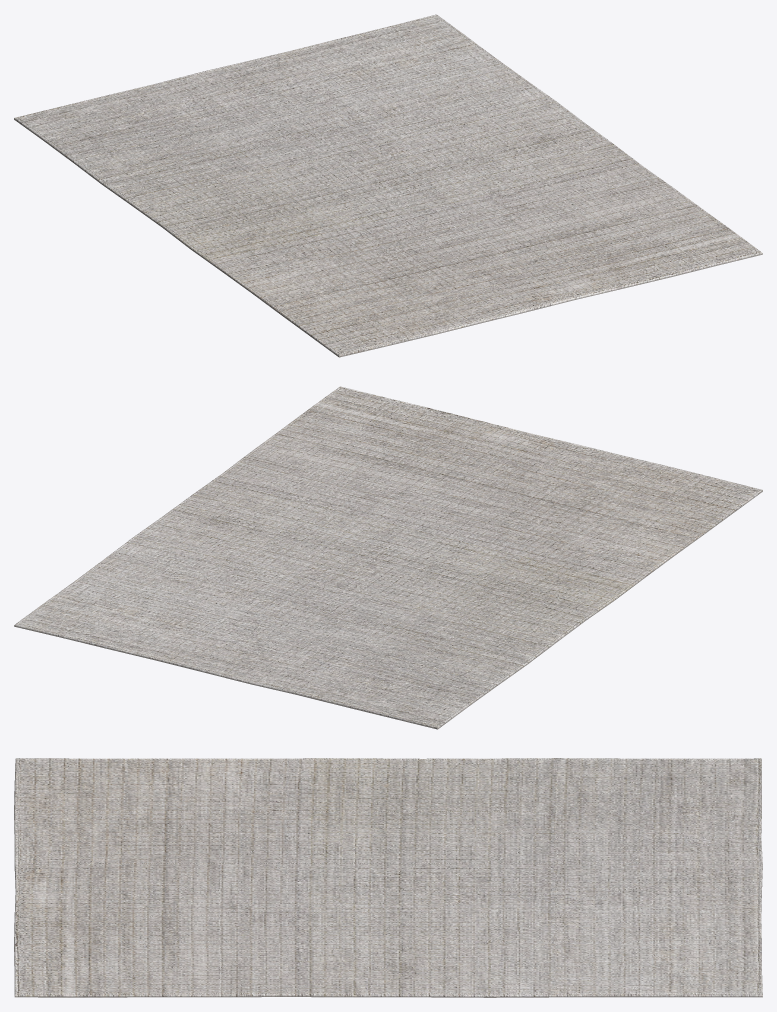
File: Carpet.fbx
The picture shows the model from 3 angles, top to bottom: view 1: azimuth 30°, elevation 25°; view 2: azimuth 150°, elevation 25°; view 3: azimuth 270°, elevation 25°; orthographic projection. The views are drawn at different scales.
Visible parts, largest first — view 1: Plane007; view 2: Plane007; view 3: Plane007.
Part boxes in pixels (<box>): Plane007: <box>14,14,762,357</box>; Plane007: <box>14,386,762,729</box>; Plane007: <box>14,758,762,997</box>.
Bounding box in the file's own units: 275 × 1.2 × 366.
